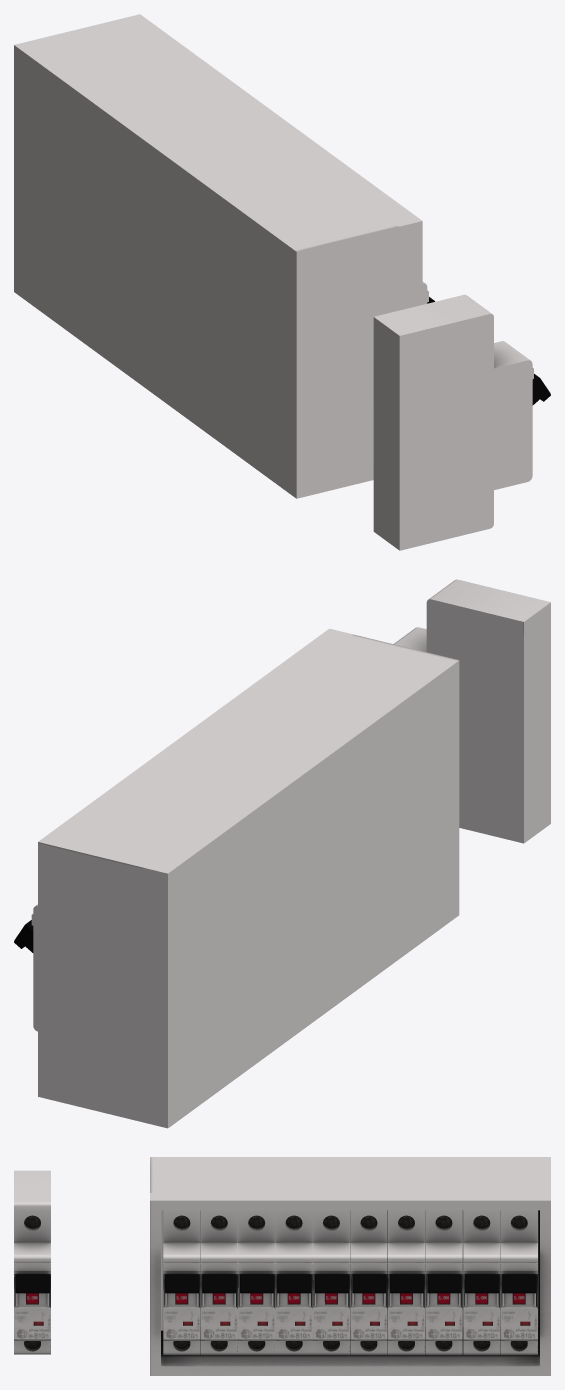
File: bezpieka_i_szafa.fbx
The picture shows the model from 3 angles, top to bottom: view 1: azimuth 30°, elevation 25°; view 2: azimuth 150°, elevation 25°; view 3: azimuth 270°, elevation 25°; orthographic projection. The views are drawn at different scales.
Parts seen in each view (by area): view 1: Cube.002, Cube.004; view 2: Cube.002, Cube.004; view 3: Cube.002, Cube.004.
Part boxes in pixels (bbox=[...]): Cube.002: bbox=[14, 14, 434, 498]; Cube.004: bbox=[373, 294, 550, 550]; Cube.002: bbox=[14, 628, 459, 1128]; Cube.004: bbox=[393, 579, 550, 843]; Cube.002: bbox=[150, 1157, 550, 1375]; Cube.004: bbox=[14, 1170, 50, 1354].
Size of the model in its own units: 351 by 518 by 1439.
